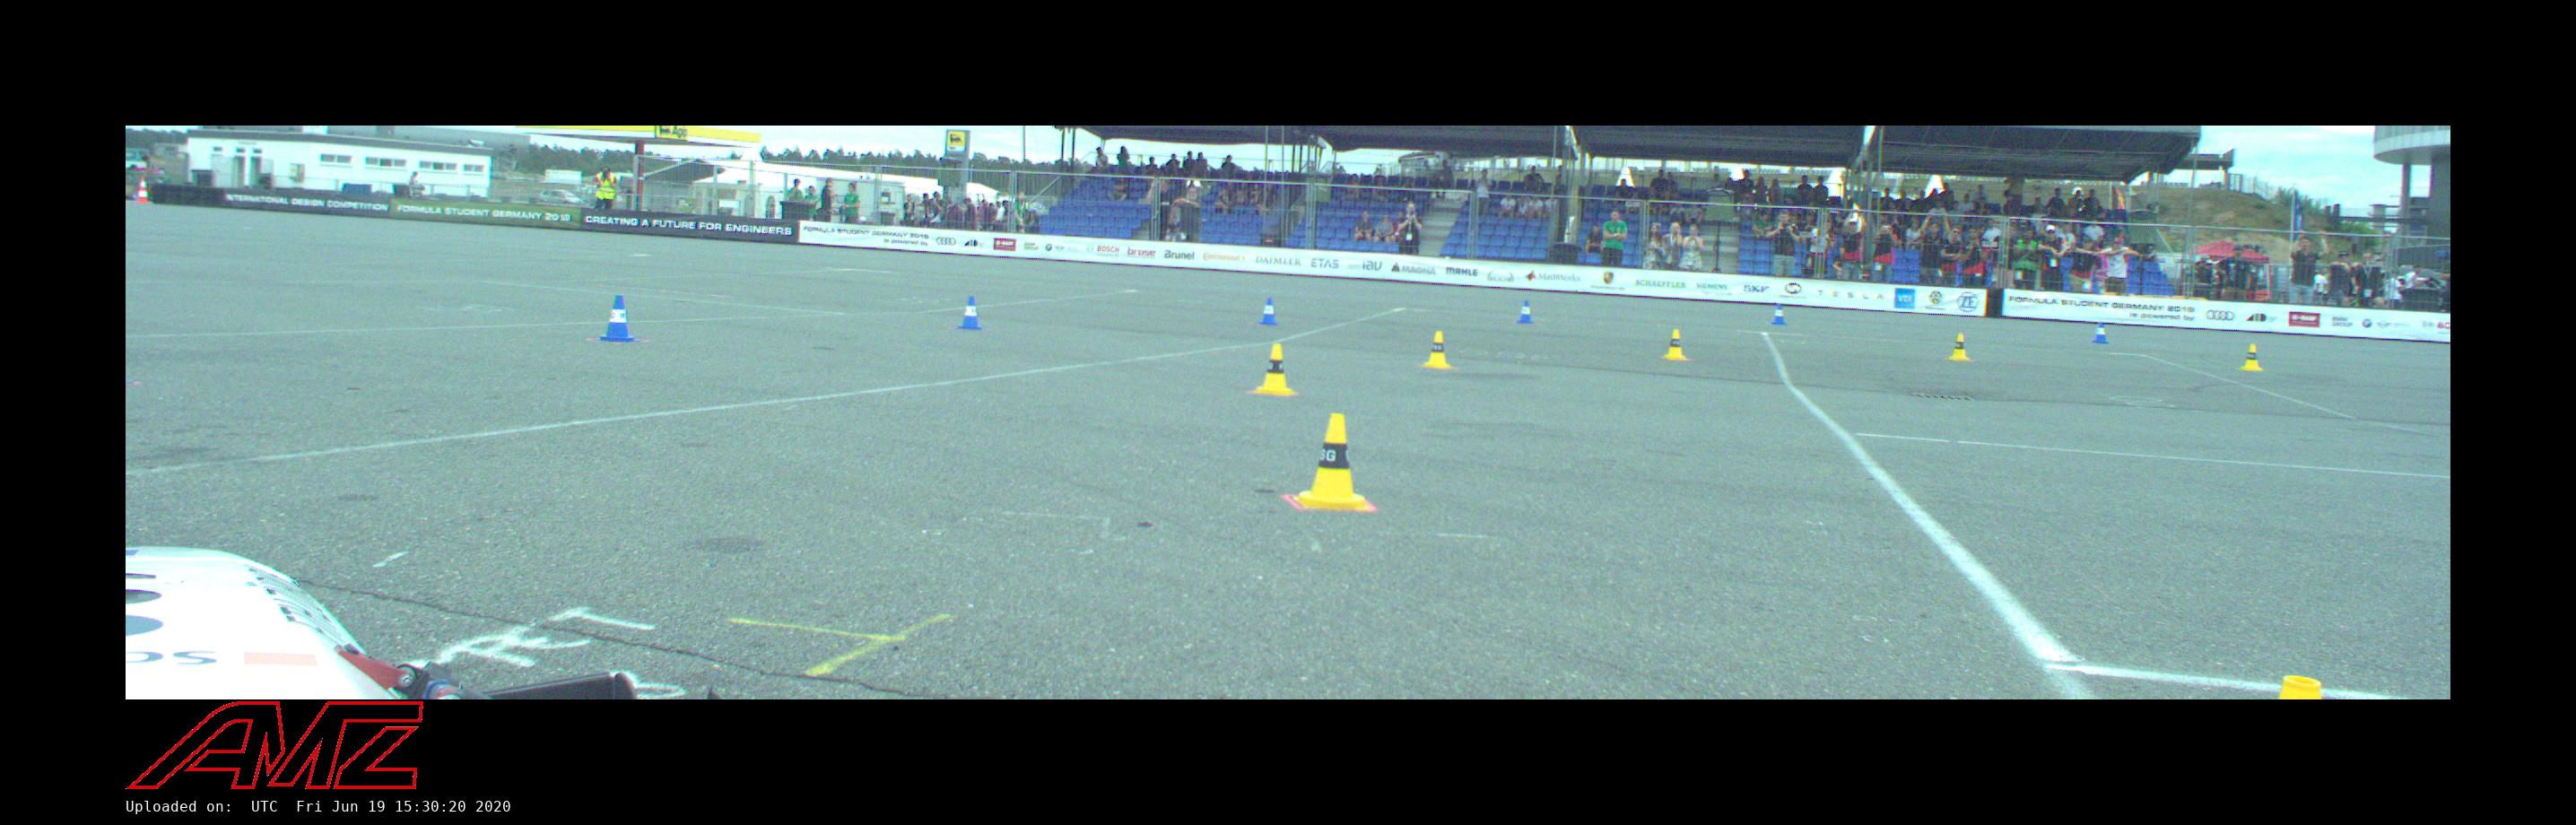blue_cone: (595, 295, 642, 343), (953, 296, 986, 331), (1256, 298, 1281, 326), (1512, 300, 1536, 324), (1768, 303, 1790, 326), (2091, 322, 2110, 344)
large_orange_cone: (133, 177, 153, 204)
yellow_cone: (1292, 413, 1372, 511), (1251, 343, 1298, 396), (1419, 330, 1455, 369), (2275, 674, 2328, 698), (1659, 328, 1689, 360), (1946, 334, 1972, 361), (2239, 344, 2263, 371)
